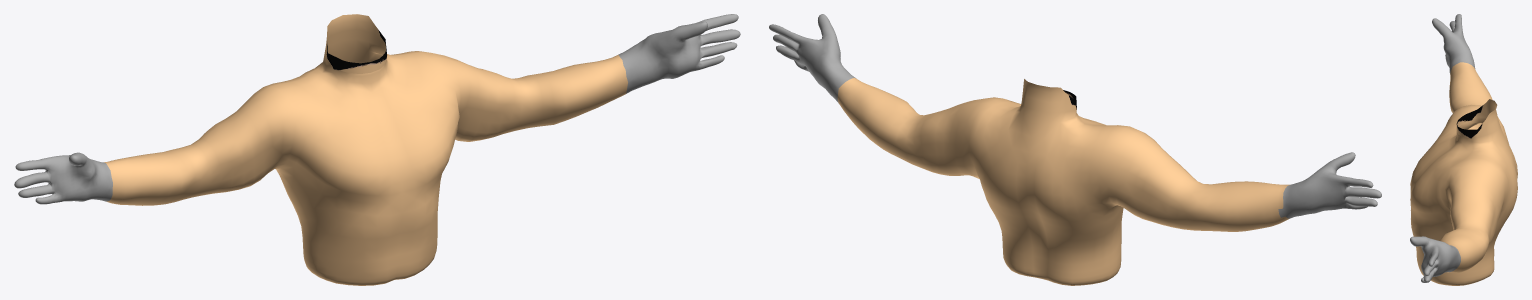
File: UpperTorso.fbx
3 renders of one model, left to right at view 1: azimuth 30°, elevation 25°; view 2: azimuth 150°, elevation 25°; view 3: azimuth 270°, elevation 25°, orthographic. The views are drawn at different scales.
Parts seen in each view (by area): view 1: Torso2; view 2: Torso2; view 3: Torso2.
Part boxes in pixels (x1,y1,x2,y2): Torso2: [14, 14, 740, 285]; Torso2: [769, 14, 1381, 285]; Torso2: [1410, 14, 1517, 285].
Bounding box in the file's own units: 198 × 61.06 × 36.49.
